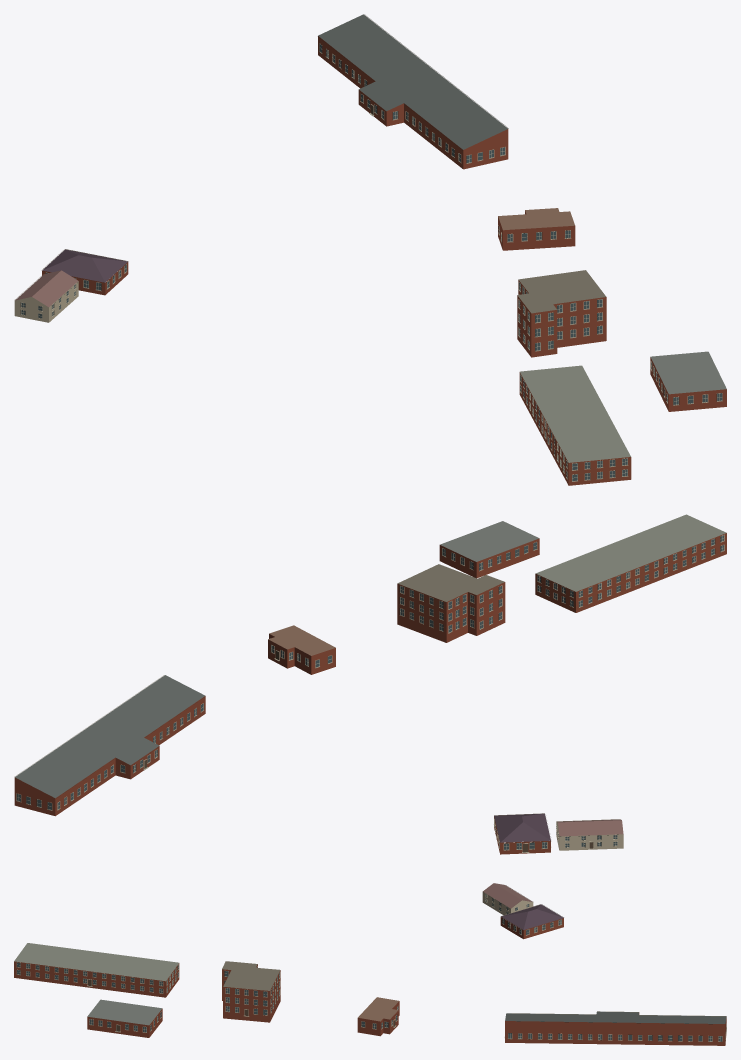
3 renders of one model, top to bottom at view 1: azimuth 30°, elevation 25°; view 2: azimuth 150°, elevation 25°; view 3: azimuth 270°, elevation 25°, orthographic. The views are drawn at different scales.
Parts seen in each view (by area): view 1: -3_1_272129190_1, -3_1_272129478_3; view 2: -3_1_272129190_1, -3_1_272129478_3; view 3: -3_1_272129190_1, -3_1_272129478_3.
Part boxes in pixels (<box>): -3_1_272129190_1: <box>14,14,726,485</box>; -3_1_272129478_3: <box>14,281,78,322</box>; -3_1_272129190_1: <box>14,514,726,854</box>; -3_1_272129478_3: <box>556,822,623,850</box>; -3_1_272129190_1: <box>14,883,726,1045</box>; -3_1_272129478_3: <box>482,892,533,915</box>.
Bounding box in the file's own units: 165 × 20.88 × 282.
